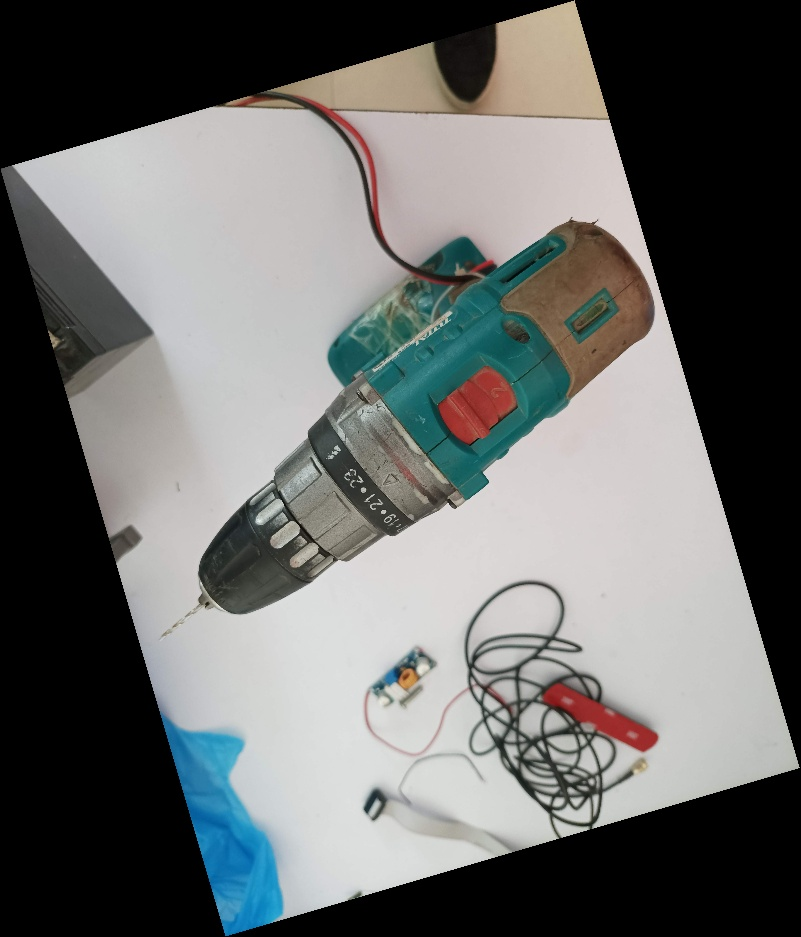driller: (147, 212, 658, 644)
